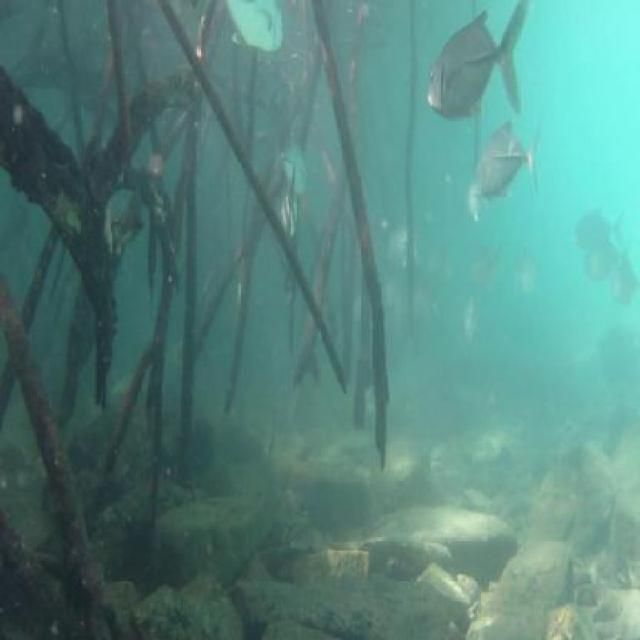Caranx_sexfasciatus_juvenile: (426, 0, 528, 123), (471, 122, 544, 206), (219, 0, 286, 60), (270, 125, 318, 208), (464, 237, 508, 300), (378, 212, 424, 272), (574, 206, 628, 254), (408, 274, 442, 337), (509, 242, 542, 304), (274, 170, 301, 244), (606, 253, 640, 310), (454, 288, 480, 355), (382, 277, 412, 335), (583, 236, 620, 282)
